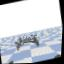drone: (14, 34, 42, 52)
